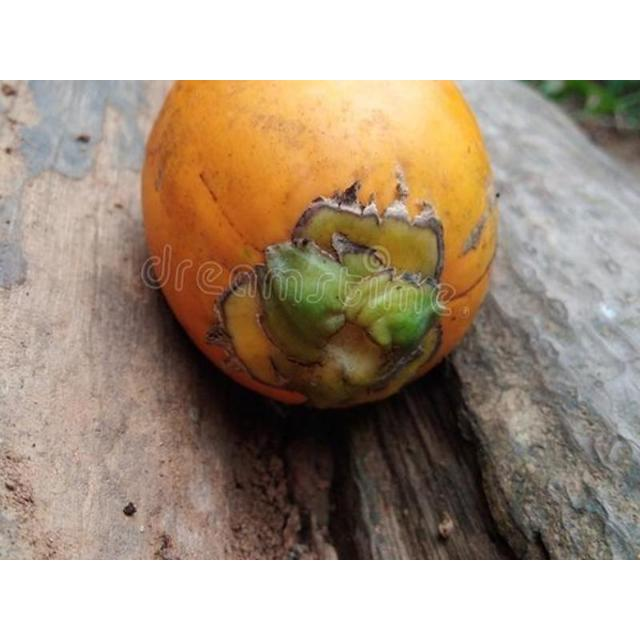good: (140, 80, 500, 412)
